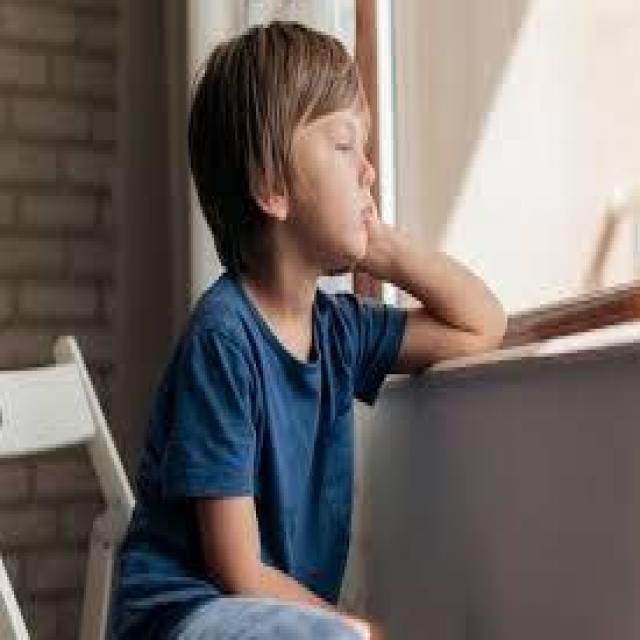person: (100, 0, 503, 633)
